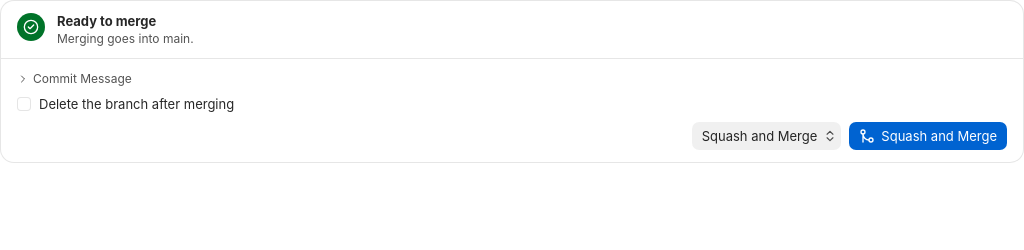
Test: MergeBox › stops offering a way chosen once it's no longer allowed
Click the dropdown named "Merge method": coordinates (767, 136) [692,122,841,150]
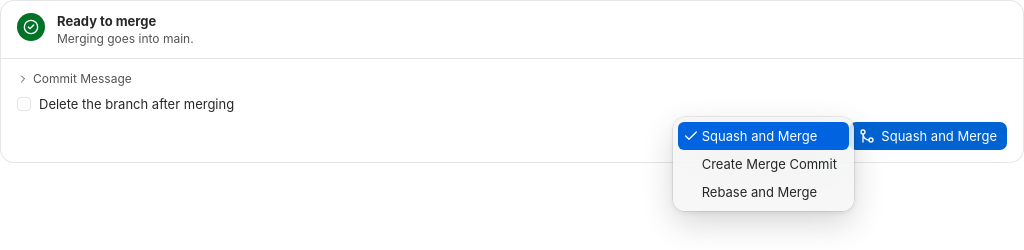
Click the option "Rebase and Merge": coordinates (759, 192) [702,184,817,200]
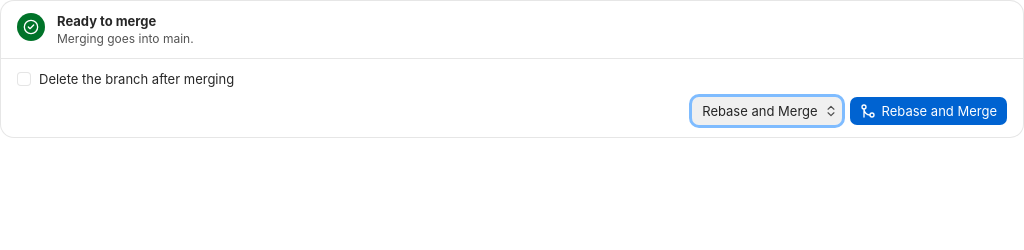
Expected: the button "Rebase and Merge" is shown, [850,97,1007,125]
Expected: the list is gone
